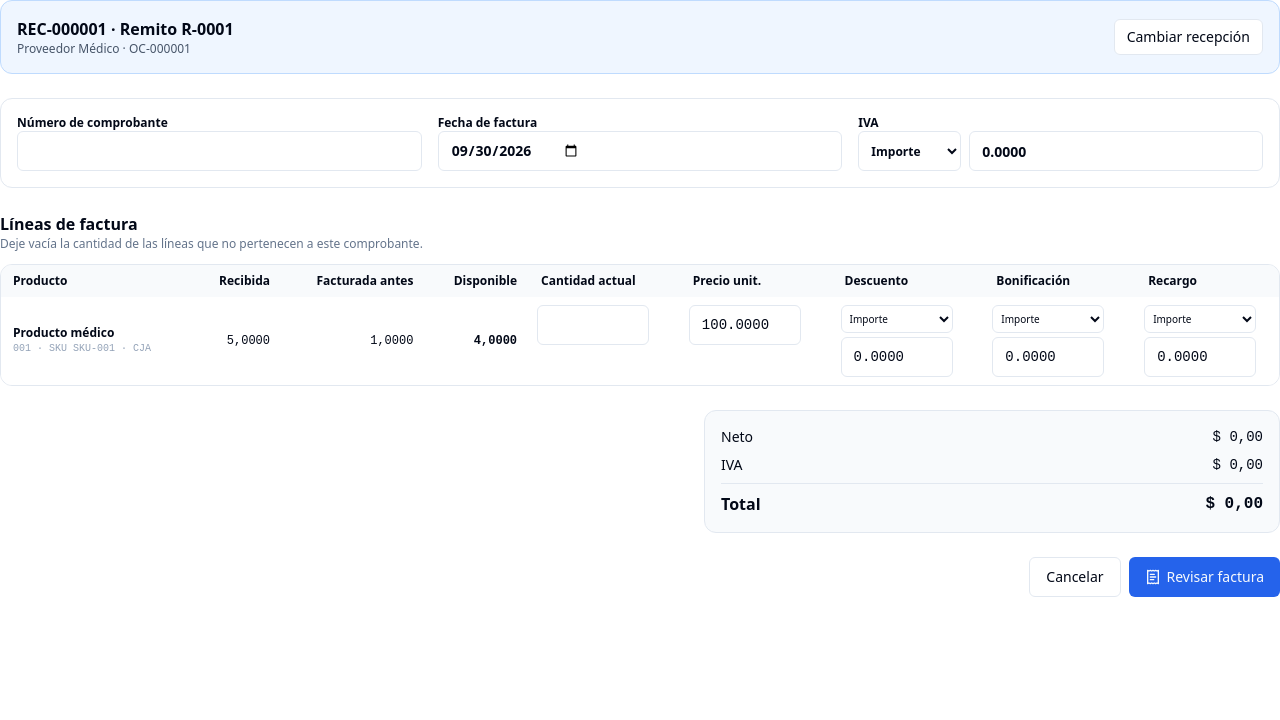
Test case: SupplierInvoiceForm › prefills provisional cost and warns without blocking an excess quantity
Check: the field named "unitPriceNet Producto médico" holds "100.0000", box [689, 305, 801, 345]
In the field labelled "Número de comprobante": (219, 151) [17, 131, 422, 171], type "A-1"
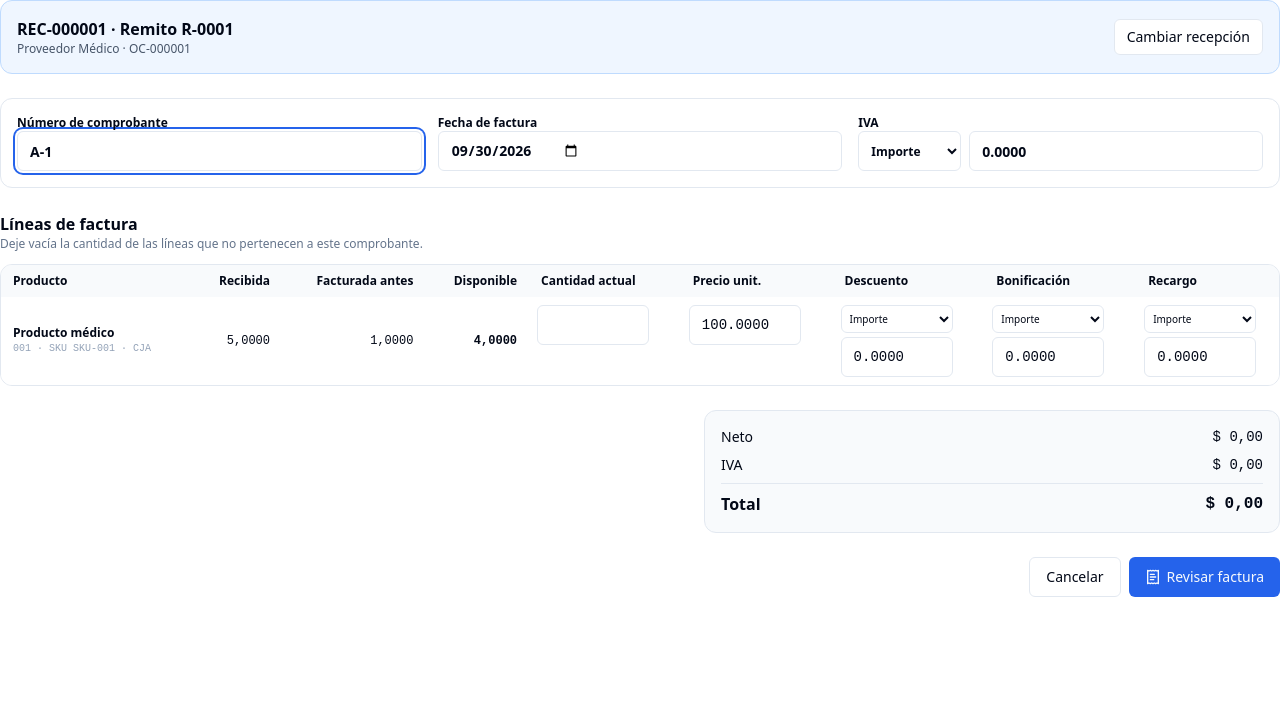
In the field named "invoicedQtyPurchaseUnit Producto médico": (593, 325) [537, 305, 649, 345], type "6"
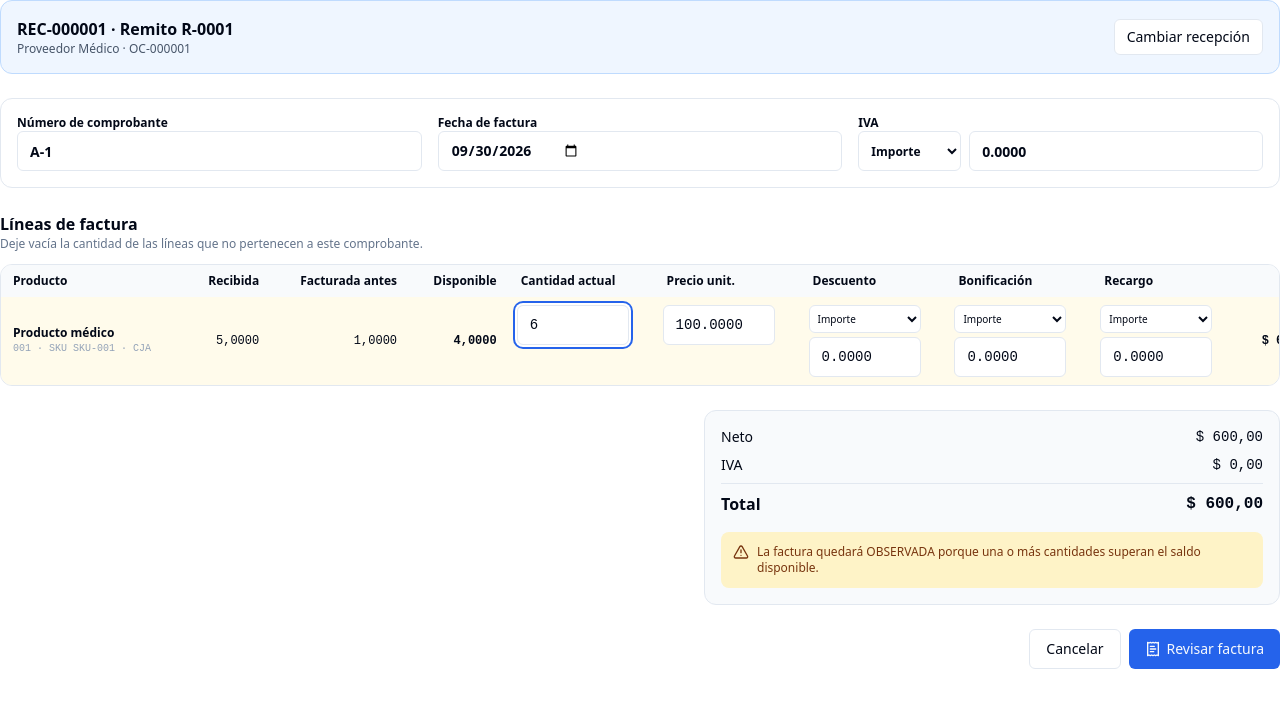
Click the button "Revisar factura": (1204, 649) [1128, 629, 1279, 669]
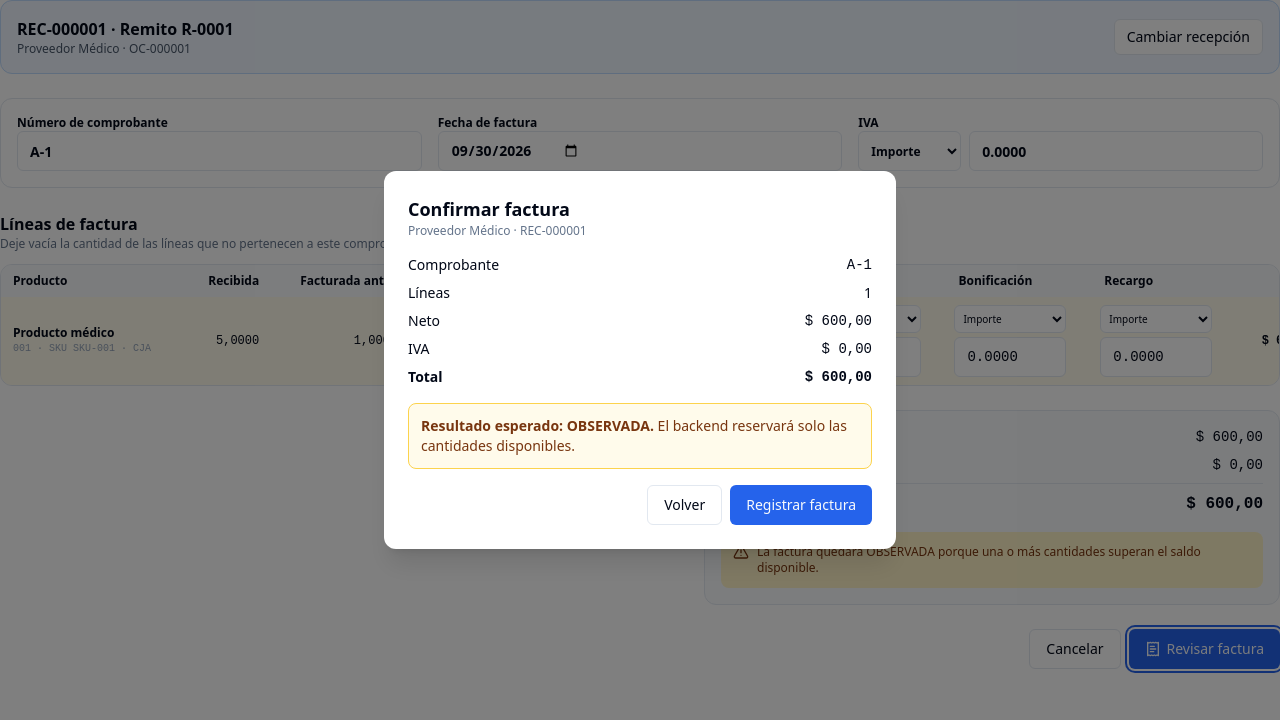
Check: the dialog shows "OBSERVADA", box [421, 416, 654, 435]
Check: the dialog shows "$ 600,00", box [805, 313, 872, 329]
